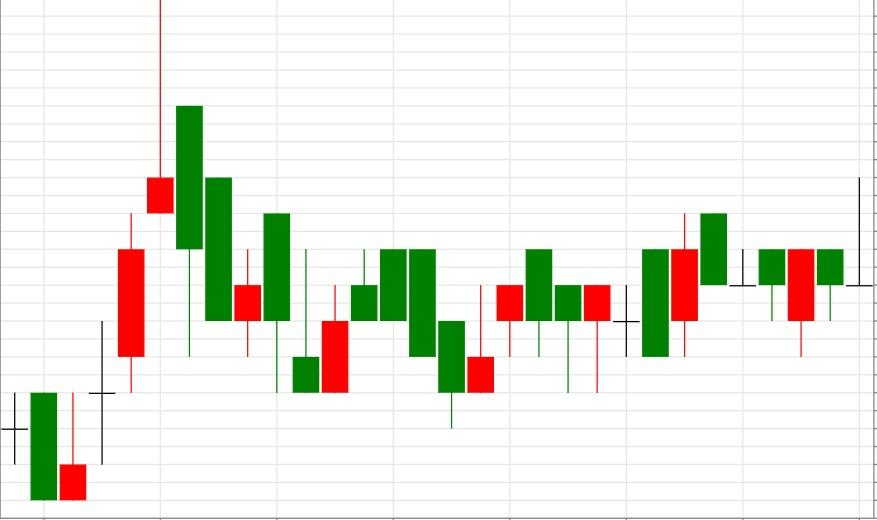inverse_hammer_rise: (146, 0, 321, 393), (380, 248, 495, 428)
shooting_star_fall: (30, 0, 175, 500)
